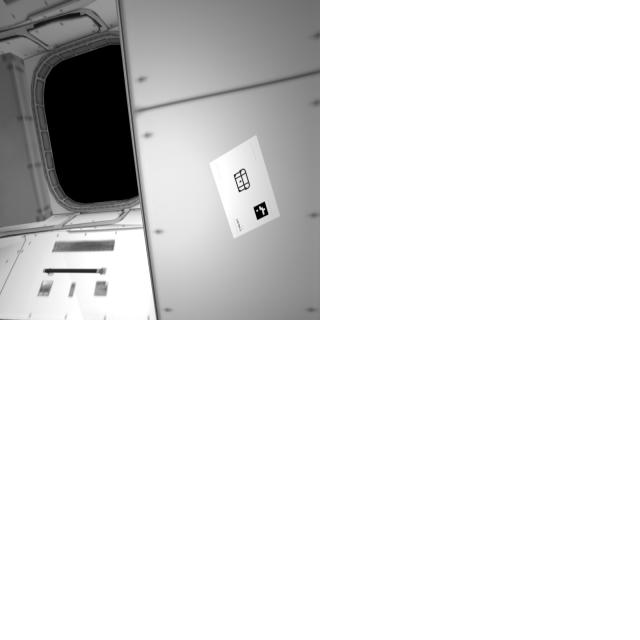treasure_box: (233, 168, 255, 198)
